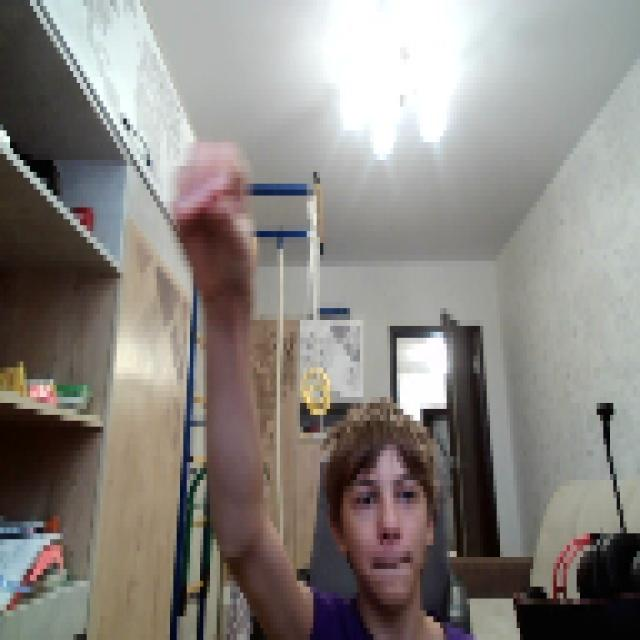left_click: (164, 136, 254, 302)
